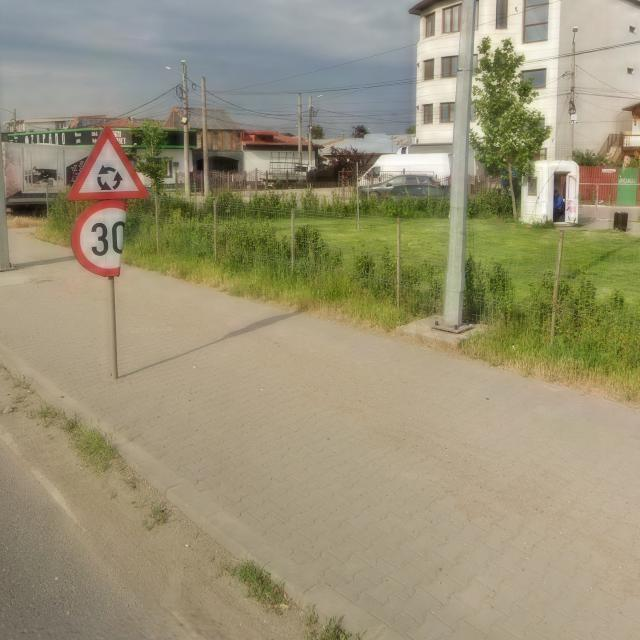forb_speed_over_30: (72, 202, 129, 280)
